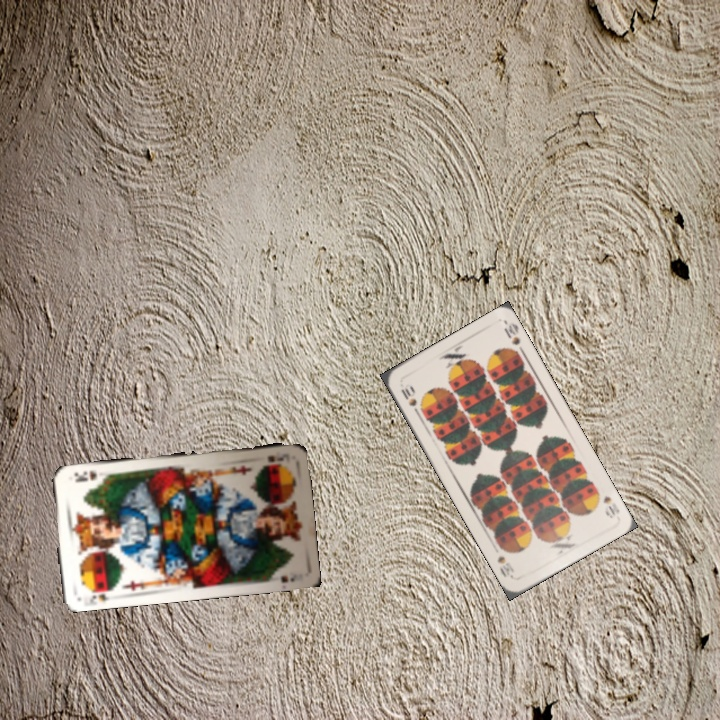S10: (592, 485, 622, 521), (397, 382, 422, 417)
SK: (84, 584, 116, 606), (264, 451, 291, 465)
